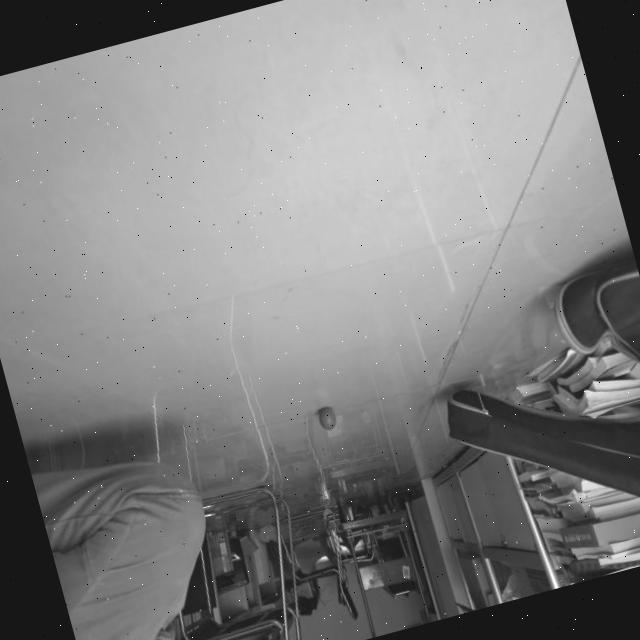ping-pong-ball: (315, 404, 337, 431)
